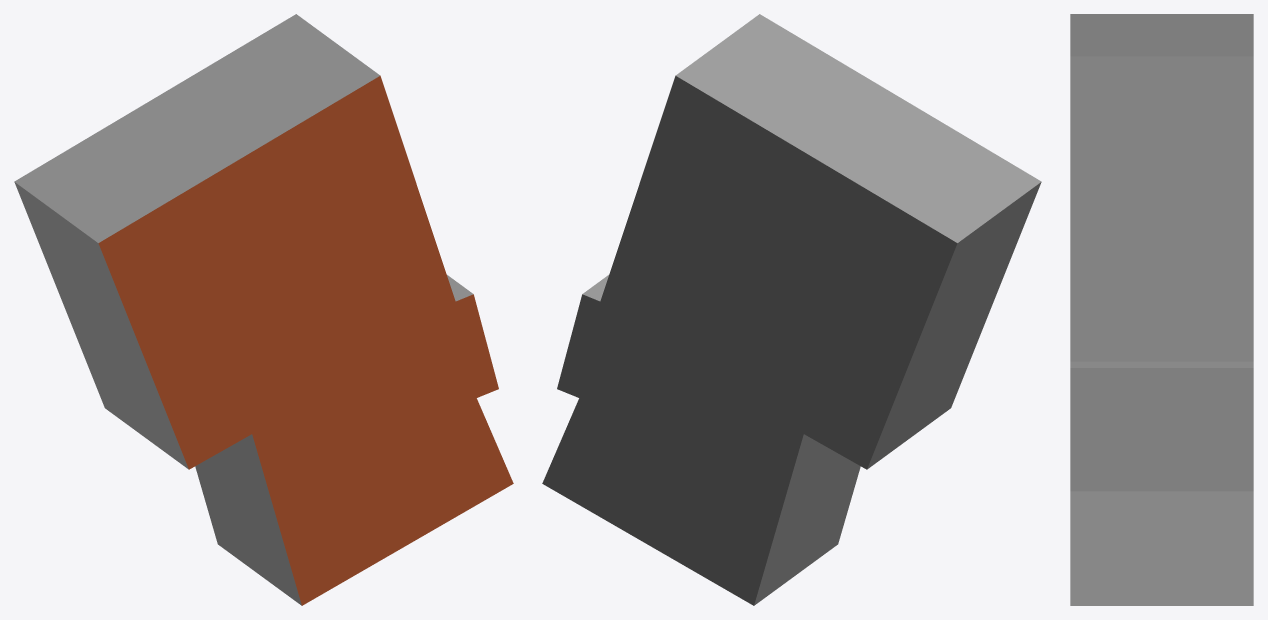
Rendered from construction_2093_assumed_A_Casa_h6m.obj.
The picture shows the model from 3 angles, left to right: view 1: azimuth 30°, elevation 25°; view 2: azimuth 150°, elevation 25°; view 3: azimuth 270°, elevation 25°; orthographic projection. The views are drawn at different scales.
Parts seen in each view (by area): view 1: construction_2093_assumed_A_Casa; view 2: construction_2093_assumed_A_Casa; view 3: construction_2093_assumed_A_Casa.
Part boxes in pixels (x1,y1,x2,y2): construction_2093_assumed_A_Casa: (14,14,513,605); construction_2093_assumed_A_Casa: (542,14,1041,605); construction_2093_assumed_A_Casa: (1070,14,1253,605).
Size of the model in its own units: 17.09 by 20.1 by 6.
